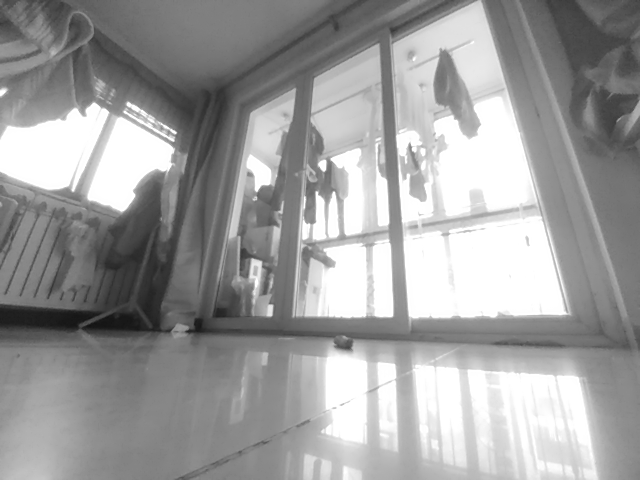curtain: (153, 88, 224, 333)
pet feces: (331, 333, 355, 352)
